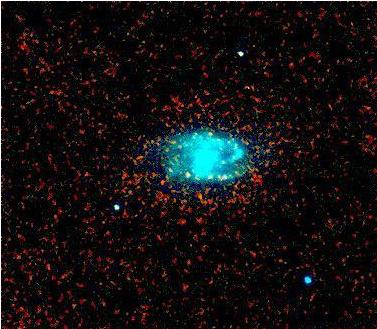star: (171, 159, 201, 189)
